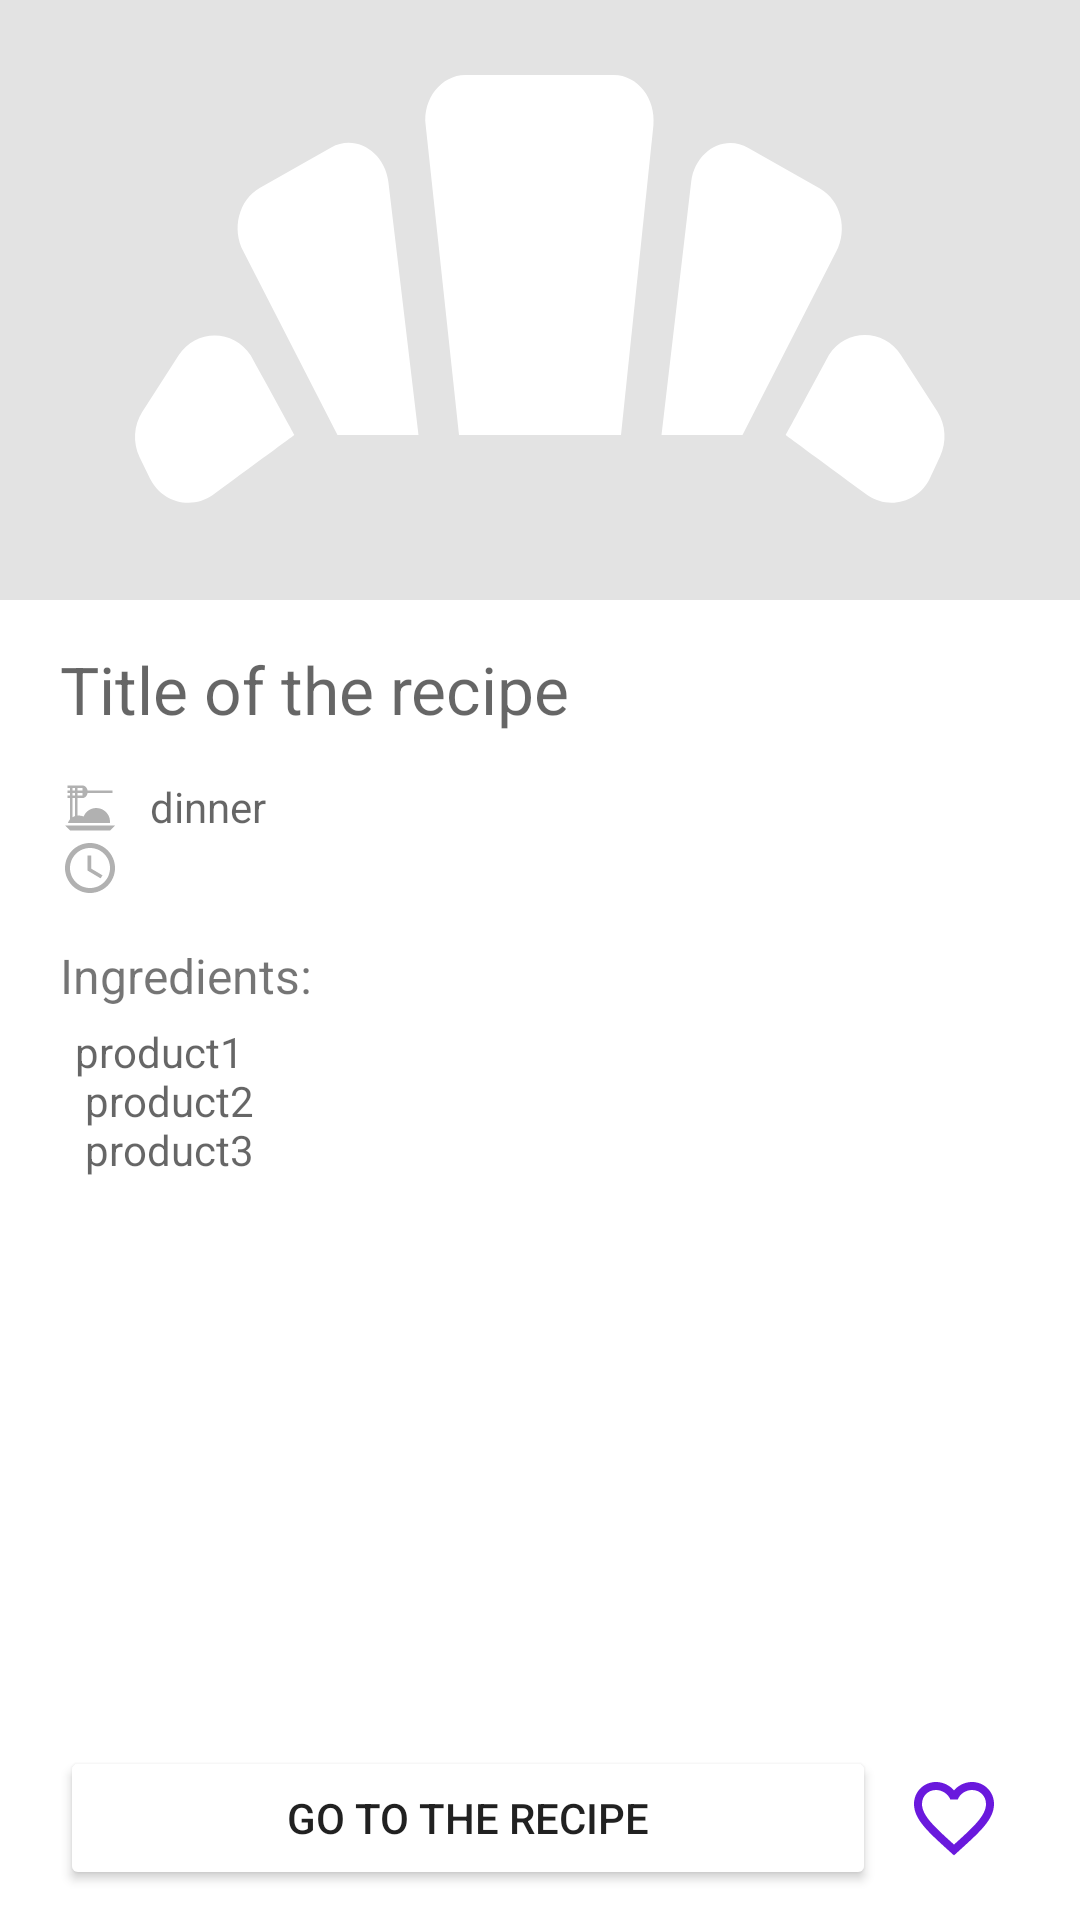

Point at icon controls on the screen. Image size 1080x1920, points as (x=x, y=y).
checkbox like: (x=954, y=1818)
meal type: (x=90, y=808)
time: (x=90, y=868)
